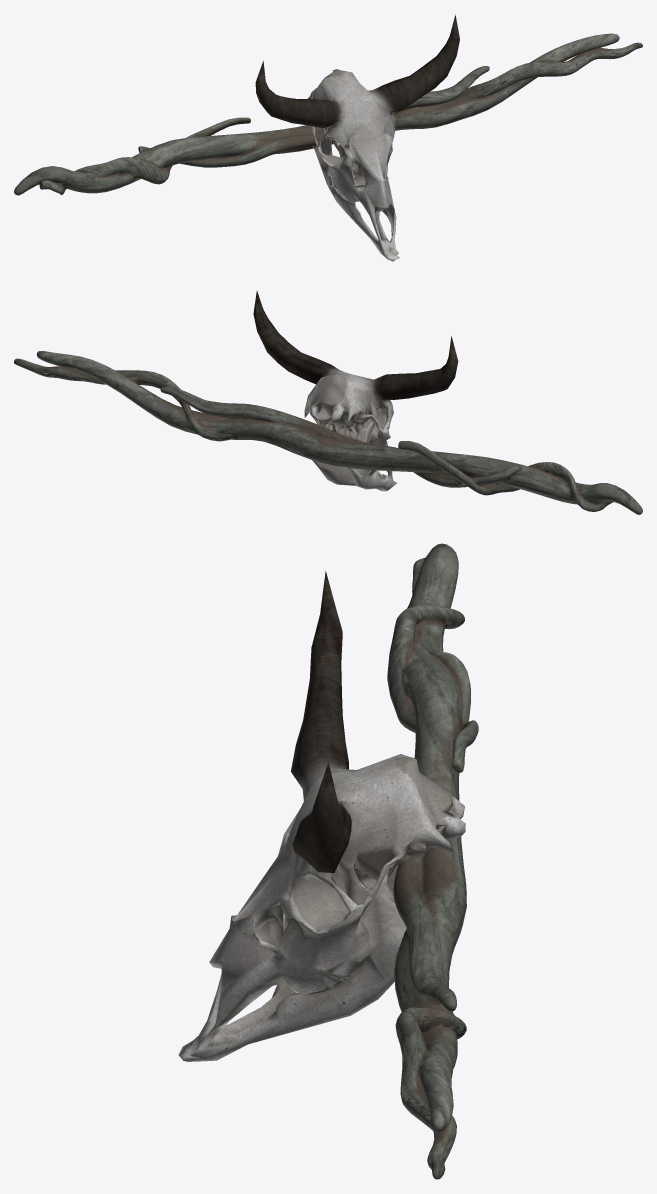
Rendered from palka_7.glb.
The picture shows the model from 3 angles, top to bottom: view 1: azimuth 30°, elevation 25°; view 2: azimuth 150°, elevation 25°; view 3: azimuth 270°, elevation 25°; orthographic projection. The views are drawn at different scales.
Parts seen in each view (by area): view 1: palka_7; view 2: palka_7; view 3: palka_7.
Boxes of the visible parts, left/top/right/bottom form: palka_7: left=14, top=14, right=642, bottom=261; palka_7: left=14, top=291, right=642, bottom=514; palka_7: left=178, top=543, right=478, bottom=1179.
Size of the model in its own units: 84.24 by 25.68 by 17.5.
5 materials, 5 textured.
